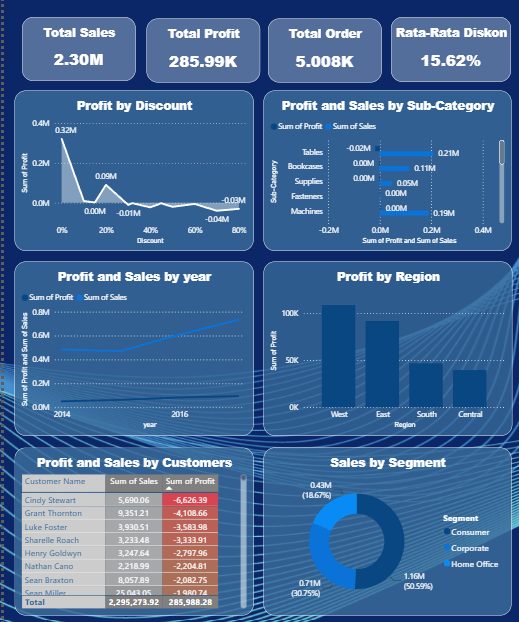

What the dashboard file says about the page in this screenshot:
{"tool":"powerbi","page":{"name":"Page 1","canvas":[816,1056],"ordinal":0},"visuals":[{"type":"cardVisual","title":"Total Profit","fields":{"Data":["Sum(Data.Profit)"]},"box":[224.6,44.1,180,101.4],"z":0},{"type":"cardVisual","title":"Total Order","fields":{"Data":["Count(Data.Order ID)"]},"box":[418.9,44.1,180,101.4],"z":1000},{"type":"cardVisual","title":"Rata-Rata Diskon","fields":{"Data":["Avg(Data.Discount)"]},"box":[611.7,42.7,190,102.9],"z":2000},{"type":"lineChart","title":"Profit by Discount","fields":{"Category":["Data.Discount"],"Y":["Sum(Data.Profit)"]},"box":[15.7,158.6,378.6,254.3],"z":3000},{"type":"clusteredBarChart","title":"Profit and Sales by Sub-Category","fields":{"Category":["Data.Sub-Category"],"Y":["Sum(Data.Profit)","Sum(Data.Sales)"]},"box":[411.4,158.6,392.9,254.3],"z":4000},{"type":"clusteredColumnChart","title":"Profit by Region","fields":{"Category":["Data.Region"],"Y":["Sum(Data.Profit)"]},"box":[410,430.7,394.3,275.7],"z":5000},{"type":"tableEx","title":"Profit and Sales by Customers","fields":{"Values":["Data.Customer Name","Sum(Data.Sales)","Sum(Data.Profit)"]},"box":[15.7,725,378.6,265.7],"z":6000},{"type":"lineChart","title":"Profit and Sales by year","fields":{"Category":["Data.year"],"Y":["Sum(Data.Profit)","Sum(Data.Sales)"]},"box":[15.7,430.7,378.6,275.7],"z":7000},{"type":"donutChart","title":"Sales by Segment","fields":{"Category":["Data.Segment"],"Y":["Sum(Data.Sales)"]},"box":[411.4,725,392.9,265.7],"z":8000},{"type":"cardVisual","title":"Total Sales","fields":{"Data":["Sum(Data.Sales)"]},"box":[28.4,42.2,180,101.4],"z":9000}]}

Visuals, with their boxes in screenshot pixels (x1, y1, x2, y2):
"Total Profit" cardVisual: x1=148, y1=36, x2=257, y2=97
"Total Order" cardVisual: x1=265, y1=36, x2=374, y2=97
"Rata-Rata Diskon" cardVisual: x1=381, y1=35, x2=496, y2=97
"Profit by Discount" lineChart: x1=22, y1=105, x2=250, y2=258
"Profit and Sales by Sub-Category" clusteredBarChart: x1=261, y1=105, x2=497, y2=258
"Profit by Region" clusteredColumnChart: x1=260, y1=269, x2=497, y2=435
"Profit and Sales by Customers" tableEx: x1=22, y1=446, x2=250, y2=606
"Profit and Sales by year" lineChart: x1=22, y1=269, x2=250, y2=435
"Sales by Segment" donutChart: x1=261, y1=446, x2=497, y2=606
"Total Sales" cardVisual: x1=30, y1=35, x2=138, y2=96
